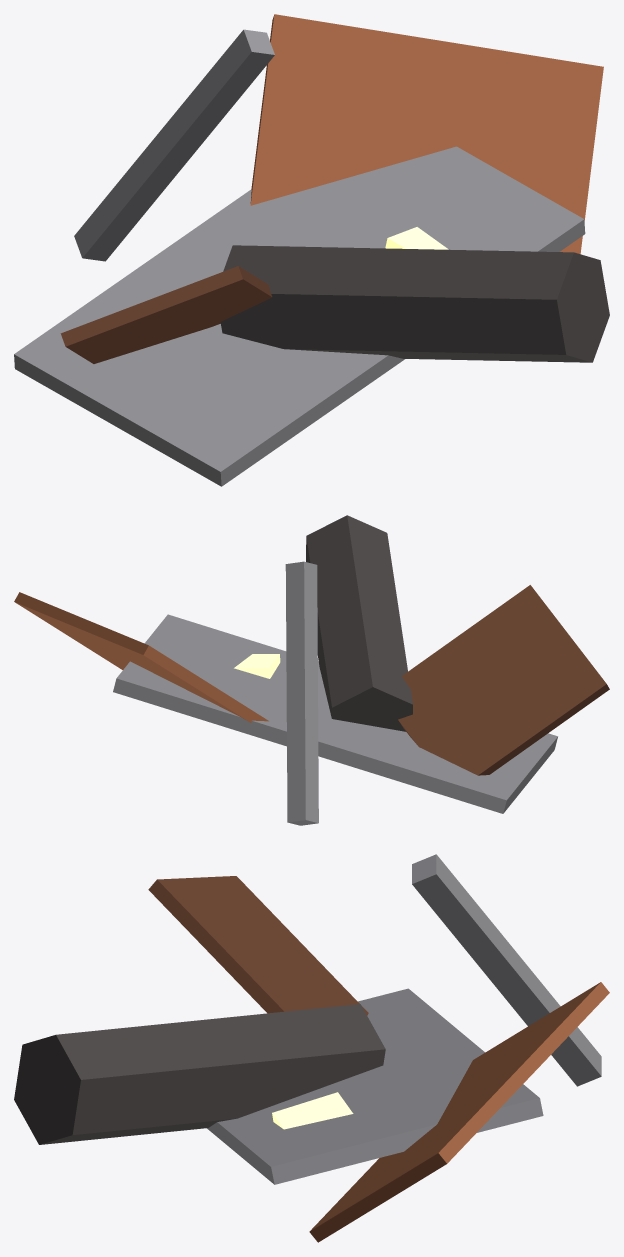
File: wreck_debris.fbx
3 views of the same model, one above another, from view 1: azimuth 30°, elevation 25°; view 2: azimuth 150°, elevation 25°; view 3: azimuth 270°, elevation 25° (orthographic). The views are drawn at different scales.
Visible parts, largest first — view 1: wreck_debris; view 2: wreck_debris; view 3: wreck_debris.
Boxes of the visible parts, left/top/right/bottom form: wreck_debris: left=14, top=14, right=609, bottom=486; wreck_debris: left=14, top=515, right=609, bottom=825; wreck_debris: left=14, top=854, right=609, bottom=1242.
Bounding box in the file's own units: 3.13 × 1.42 × 2.52.
